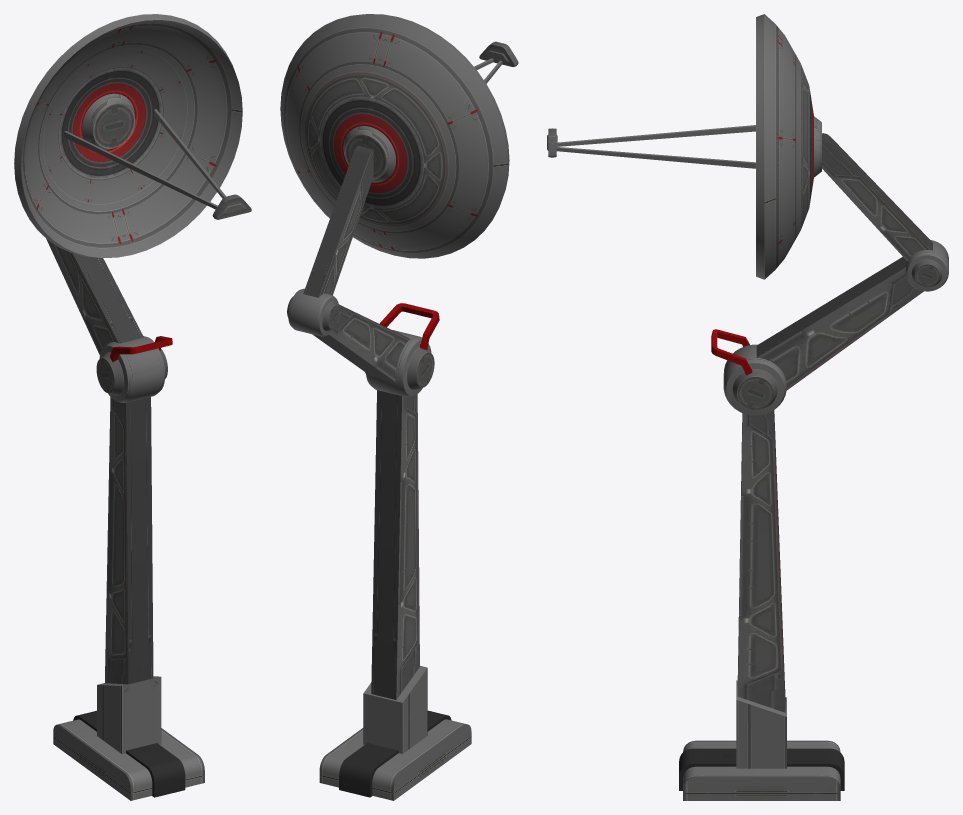
Rendered from satellite-dish.glb.
3 renders of one model, left to right at view 1: azimuth 30°, elevation 25°; view 2: azimuth 150°, elevation 25°; view 3: azimuth 270°, elevation 25°, orthographic.
Parts seen in each view (by area): view 1: Prop_SatelliteDish; view 2: Prop_SatelliteDish; view 3: Prop_SatelliteDish.
Boxes of the visible parts, left/top/right/bottom form: Prop_SatelliteDish: left=14, top=14, right=251, bottom=800; Prop_SatelliteDish: left=280, top=14, right=518, bottom=800; Prop_SatelliteDish: left=547, top=14, right=948, bottom=800.
Size of the model in its own units: 1.84 by 5.79 by 2.78.
Materials: 3 (3 with a texture image).
